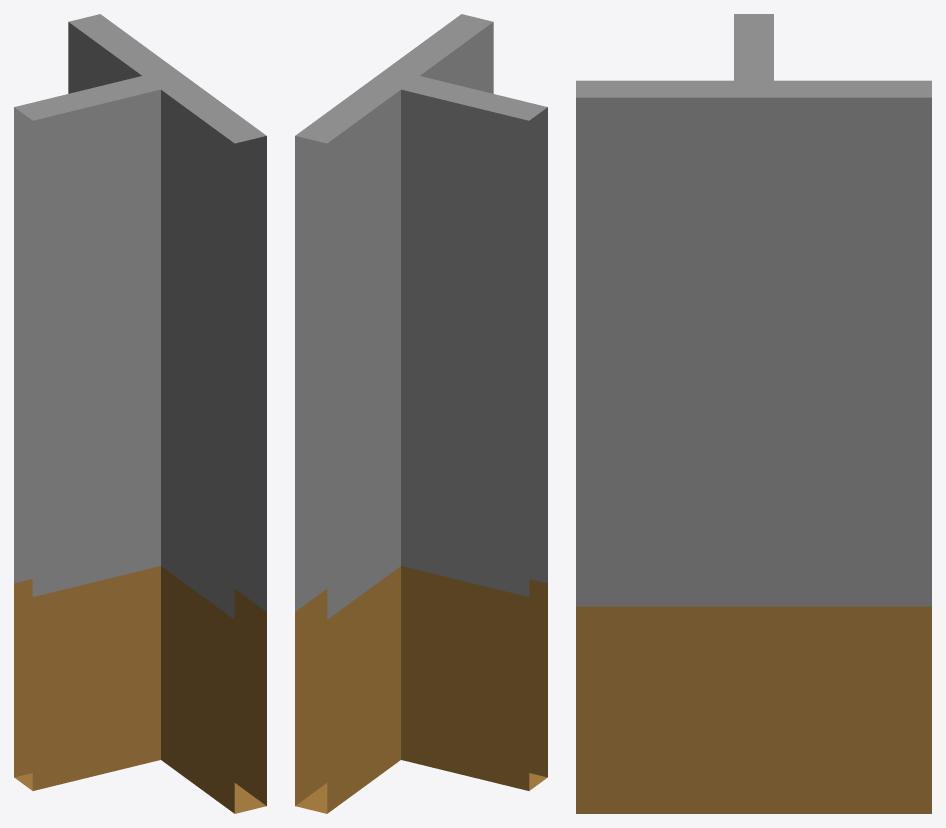
Rendered from SM_WallLING.fbx.
3 renders of one model, left to right at view 1: azimuth 30°, elevation 25°; view 2: azimuth 150°, elevation 25°; view 3: azimuth 270°, elevation 25°, orthographic. The views are drawn at different scales.
Visible parts, largest first — view 1: SM_Wall_T; view 2: SM_Wall_T; view 3: SM_Wall_T.
Boxes of the visible parts, x1,y1,x2,y2 form: SM_Wall_T: (14,14,266,813); SM_Wall_T: (295,14,547,813); SM_Wall_T: (576,14,931,813).
Size of the model in its own units: 100 by 400 by 180.
